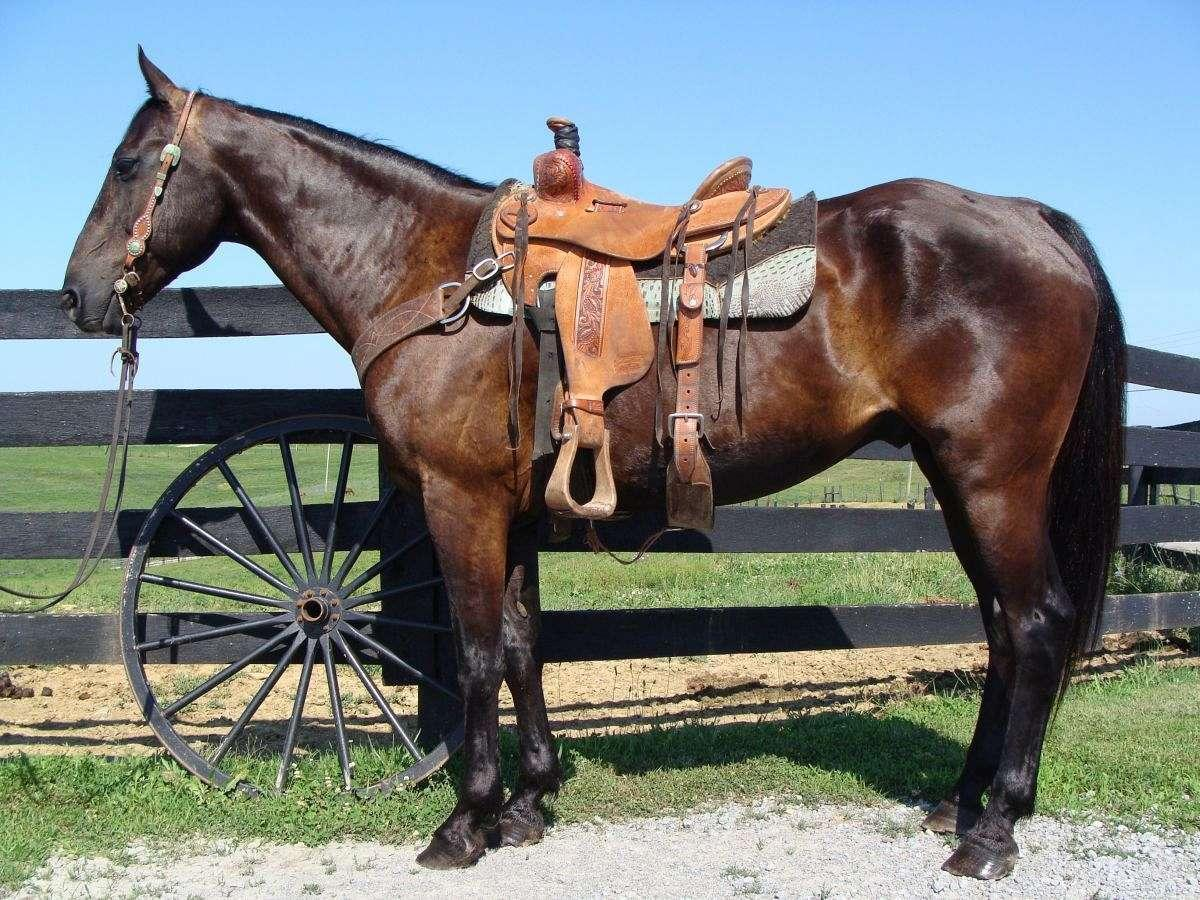horse: (50, 36, 1144, 887)
